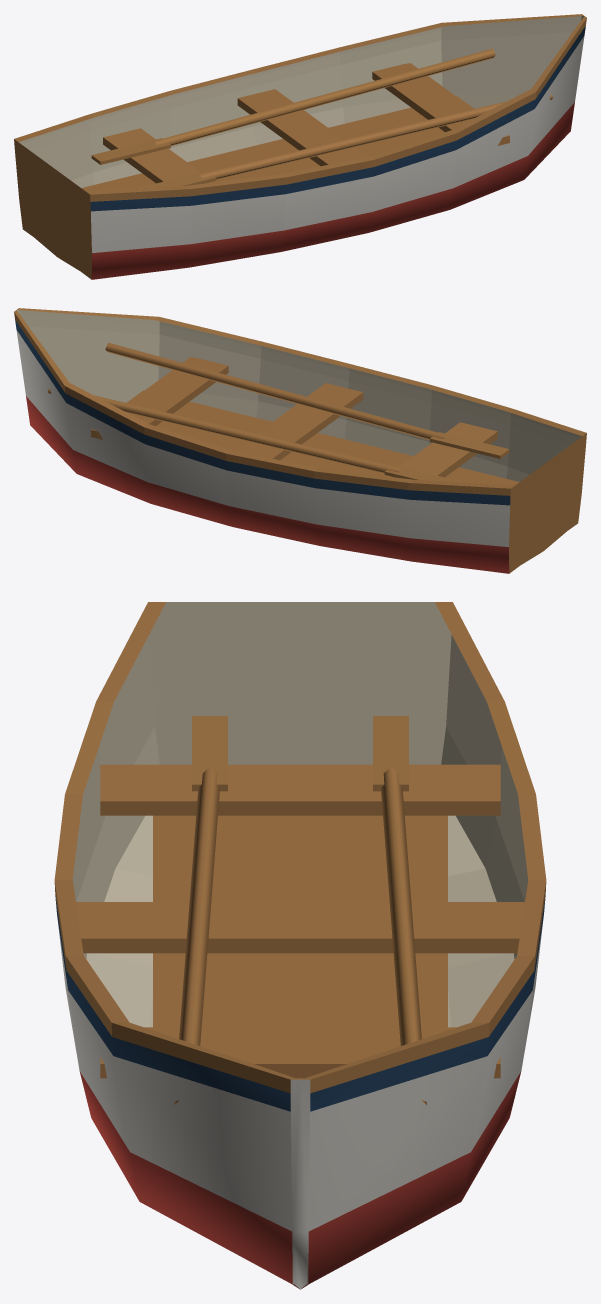
File: dinghy.glb
The picture shows the model from 3 angles, top to bottom: view 1: azimuth 30°, elevation 25°; view 2: azimuth 150°, elevation 25°; view 3: azimuth 270°, elevation 25°; orthographic projection. The views are drawn at different scales.
Parts seen in each view (by area): view 1: hull; view 2: hull; view 3: hull.
Part boxes in pixels (bbox=[...]): hull: bbox=[14, 14, 586, 279]; hull: bbox=[14, 308, 586, 573]; hull: bbox=[54, 602, 546, 1289].
Bounding box in the file's own units: 3.4 × 0.777 × 1.36.
